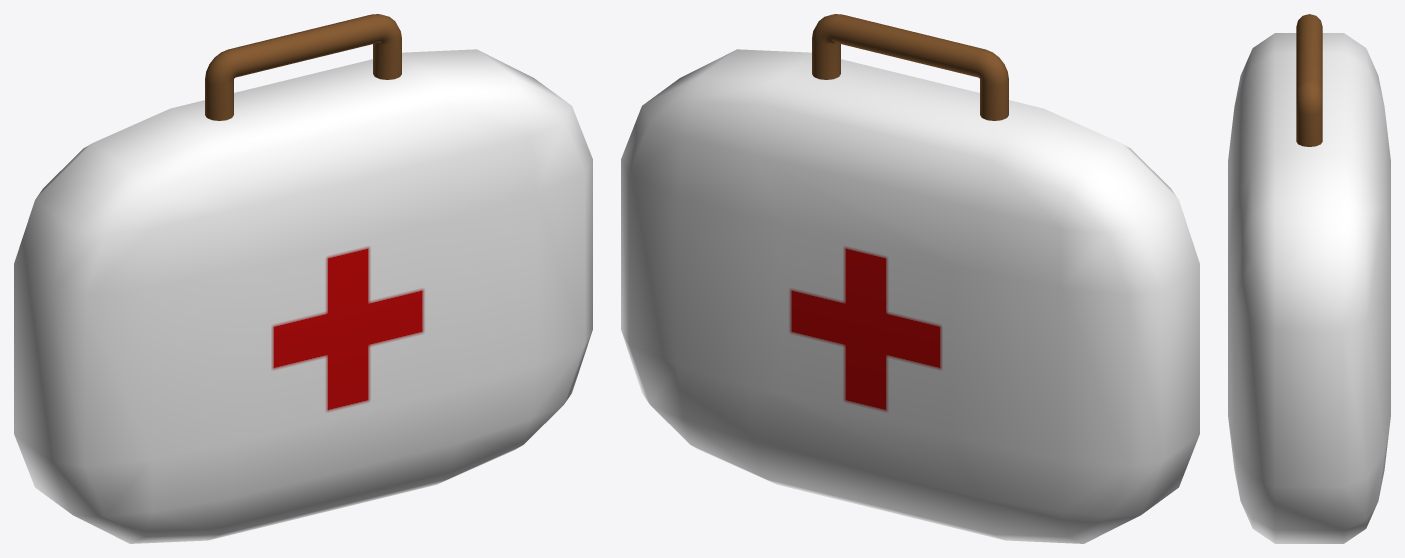
The picture shows the model from 3 angles, left to right: view 1: azimuth 30°, elevation 25°; view 2: azimuth 150°, elevation 25°; view 3: azimuth 270°, elevation 25°; orthographic projection. The views are drawn at different scales.
Parts seen in each view (by area): view 1: FirstAidKit; view 2: FirstAidKit; view 3: FirstAidKit.
Boxes of the visible parts, left/top/right/bottom form: FirstAidKit: left=14, top=14, right=592, bottom=543; FirstAidKit: left=621, top=14, right=1199, bottom=543; FirstAidKit: left=1228, top=14, right=1390, bottom=543.
Bounding box in the file's own units: 0.322 × 0.265 × 0.092.
Materials: 2 (2 with a texture image).
